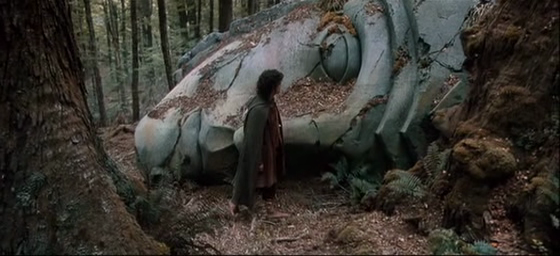els: (1, 1, 560, 256)
face_es: (271, 78, 282, 95)
person: (232, 69, 290, 220)
